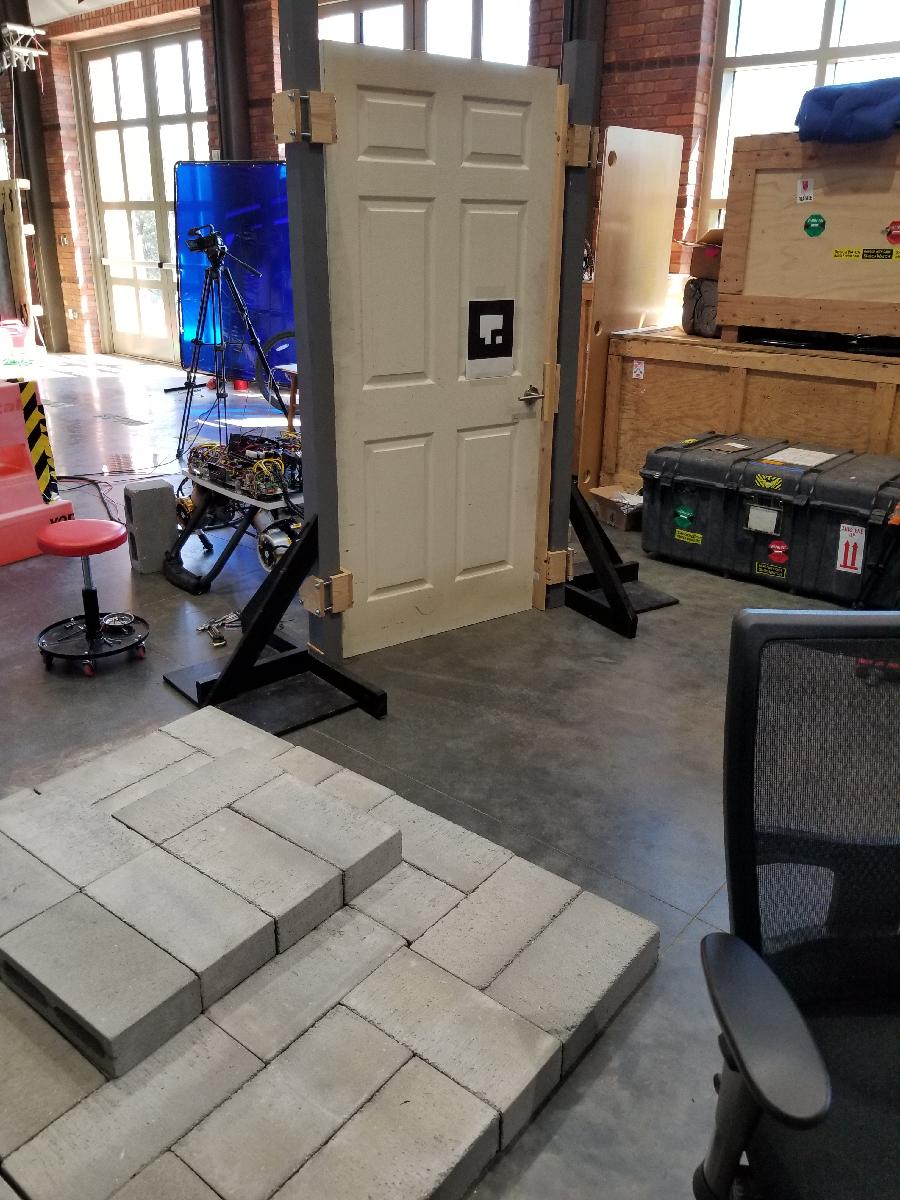door: (313, 29, 567, 666)
doorHandle: (520, 384, 546, 411)
